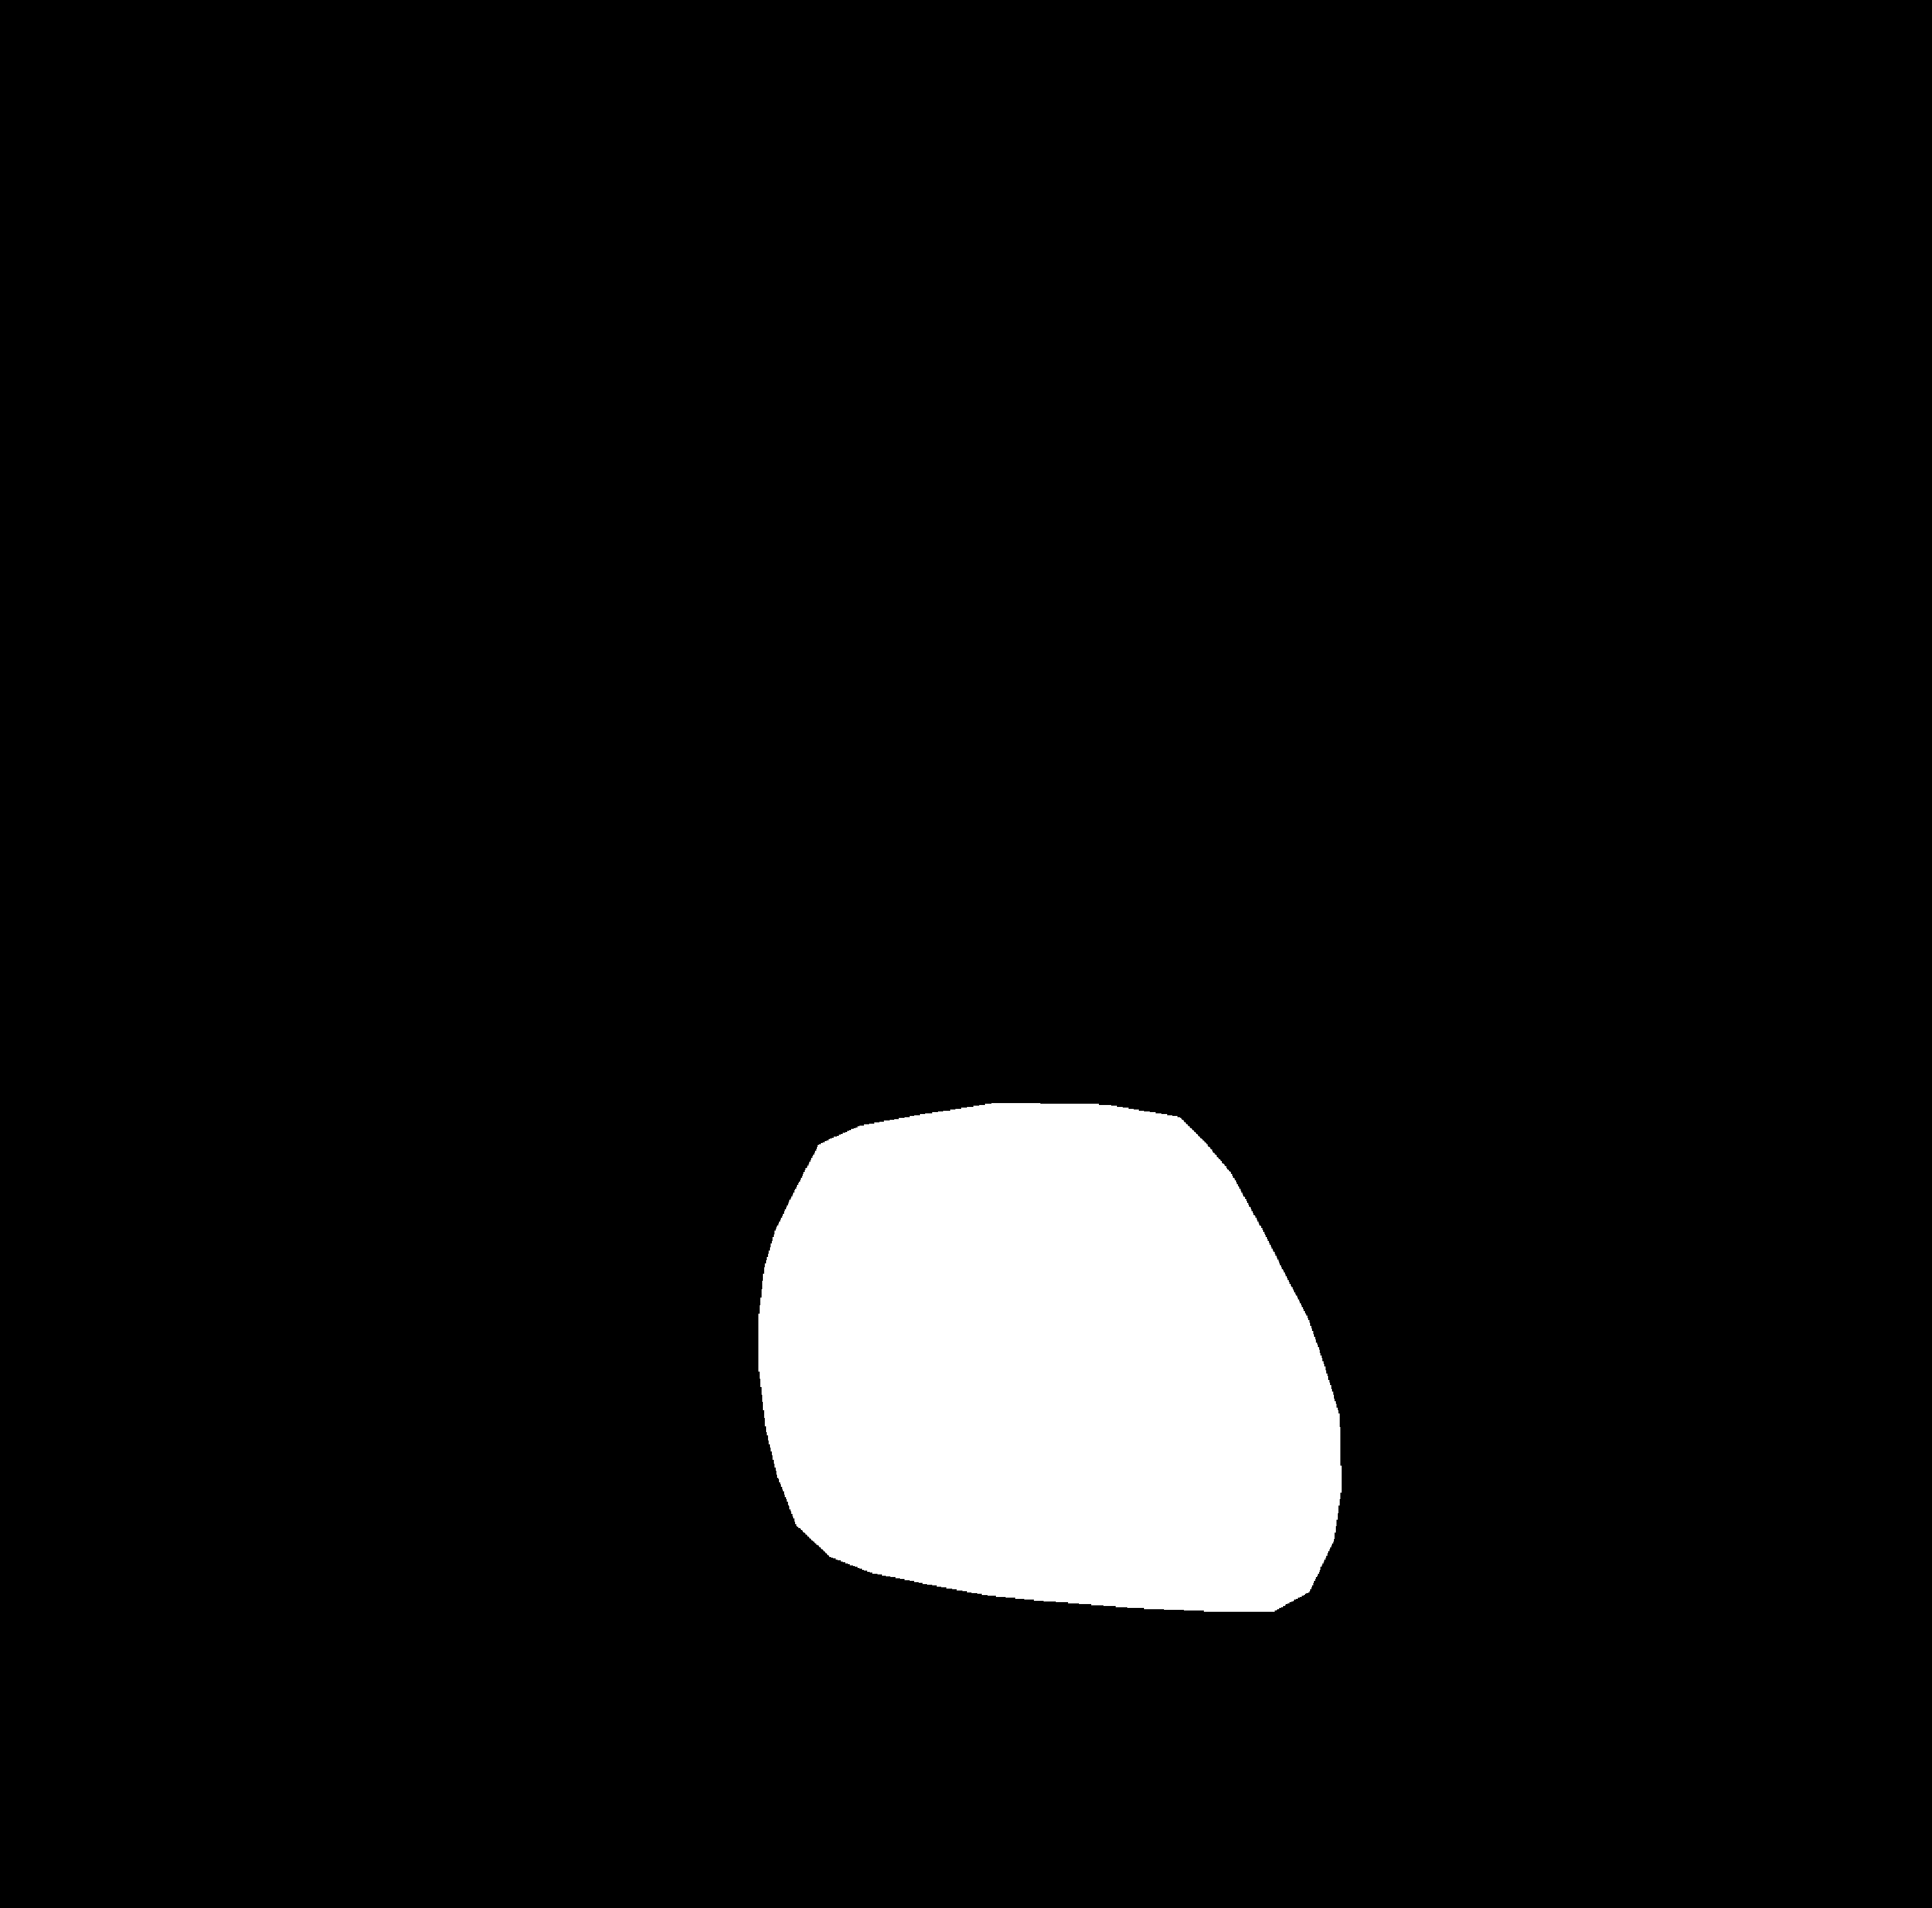heart: (756, 1141, 1340, 1599)
left_lung: (288, 397, 891, 1784)
right_lung: (1078, 379, 1672, 1829)
